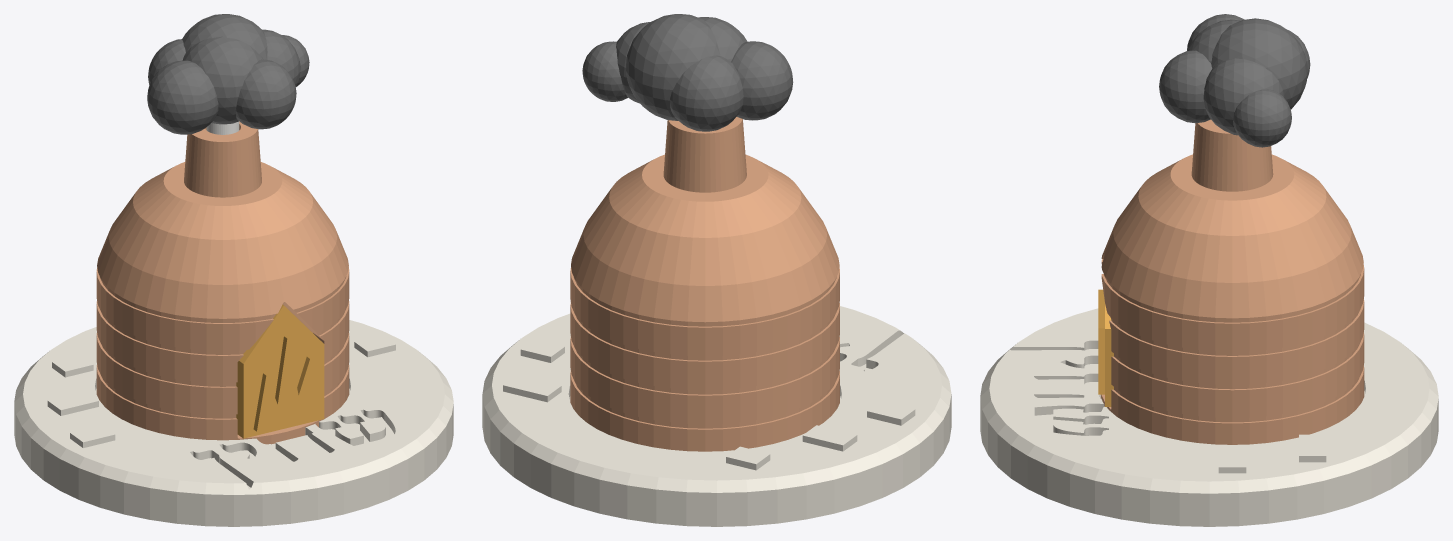
The model's file is boils.glb.
3 renders of one model, left to right at view 1: azimuth 30°, elevation 25°; view 2: azimuth 150°, elevation 25°; view 3: azimuth 270°, elevation 25°, orthographic. The views are drawn at different scales.
Visible parts, largest first — view 1: kiln, stage, cloud, fire; view 2: kiln, stage, cloud; view 3: kiln, stage, cloud, fire.
Boxes of the visible parts, x1=… form: kiln: x1=96, y1=121, x2=349, y2=444; stage: x1=14, y1=320, x2=453, y2=526; cloud: x1=147, y1=14, x2=309, y2=134; fire: x1=236, y1=304, x2=324, y2=438; kiln: x1=570, y1=117, x2=839, y2=451; stage: x1=482, y1=306, x2=951, y2=526; cloud: x1=582, y1=14, x2=793, y2=131; kiln: x1=1100, y1=119, x2=1364, y2=444; stage: x1=980, y1=308, x2=1438, y2=526; cloud: x1=1159, y1=14, x2=1310, y2=147; fire: x1=1098, y1=289, x2=1113, y2=406.
Bounding box in the file's own units: 40 × 39.8 × 40.
